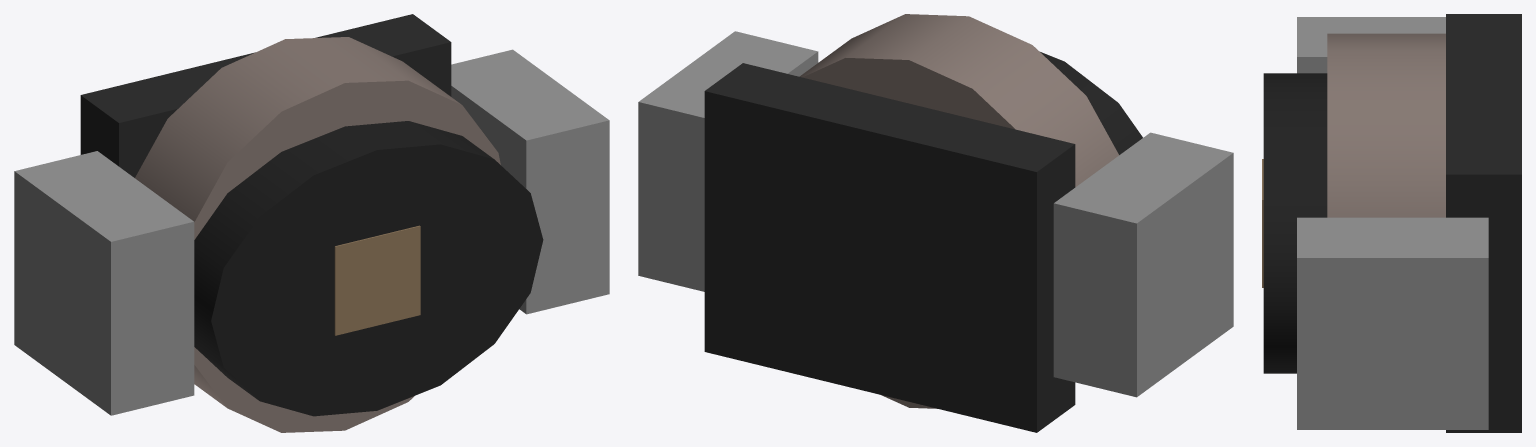
Rendered from CMU3DSmallEmptyWallLight.glb.
The picture shows the model from 3 angles, left to right: view 1: azimuth 30°, elevation 25°; view 2: azimuth 150°, elevation 25°; view 3: azimuth 270°, elevation 25°; orthographic projection.
Parts seen in each view (by area): view 1: Socket black insulator, Empty socket left tab, Socket metal collar, Empty socket right tab, Socket wall foot, Recessed contact; view 2: Socket wall foot, Empty socket left tab, Socket metal collar, Empty socket right tab, Socket black insulator; view 3: Empty socket right tab, Socket wall foot, Socket metal collar, Socket black insulator, Empty socket left tab, Recessed contact.
Part boxes in pixels (bbox=[...]): Socket black insulator: bbox=[194, 121, 543, 416]; Empty socket left tab: bbox=[14, 151, 194, 415]; Socket metal collar: bbox=[135, 37, 500, 432]; Empty socket right tab: bbox=[451, 49, 609, 314]; Socket wall foot: bbox=[80, 14, 451, 177]; Recessed contact: bbox=[334, 225, 420, 335]; Socket wall foot: bbox=[704, 63, 1075, 432]; Empty socket left tab: bbox=[1053, 132, 1233, 397]; Socket metal collar: bbox=[799, 14, 1118, 408]; Empty socket right tab: bbox=[638, 31, 818, 291]; Socket black insulator: bbox=[1039, 51, 1142, 154]; Empty socket right tab: bbox=[1297, 217, 1488, 429]; Socket wall foot: bbox=[1446, 14, 1521, 432]; Socket metal collar: bbox=[1327, 33, 1445, 217]; Socket black insulator: bbox=[1263, 73, 1327, 373]; Empty socket left tab: bbox=[1297, 17, 1445, 73]; Recessed contact: bbox=[1262, 159, 1263, 287].
Size of the model in its own units: 0.1875 by 0.125 by 0.0855.
